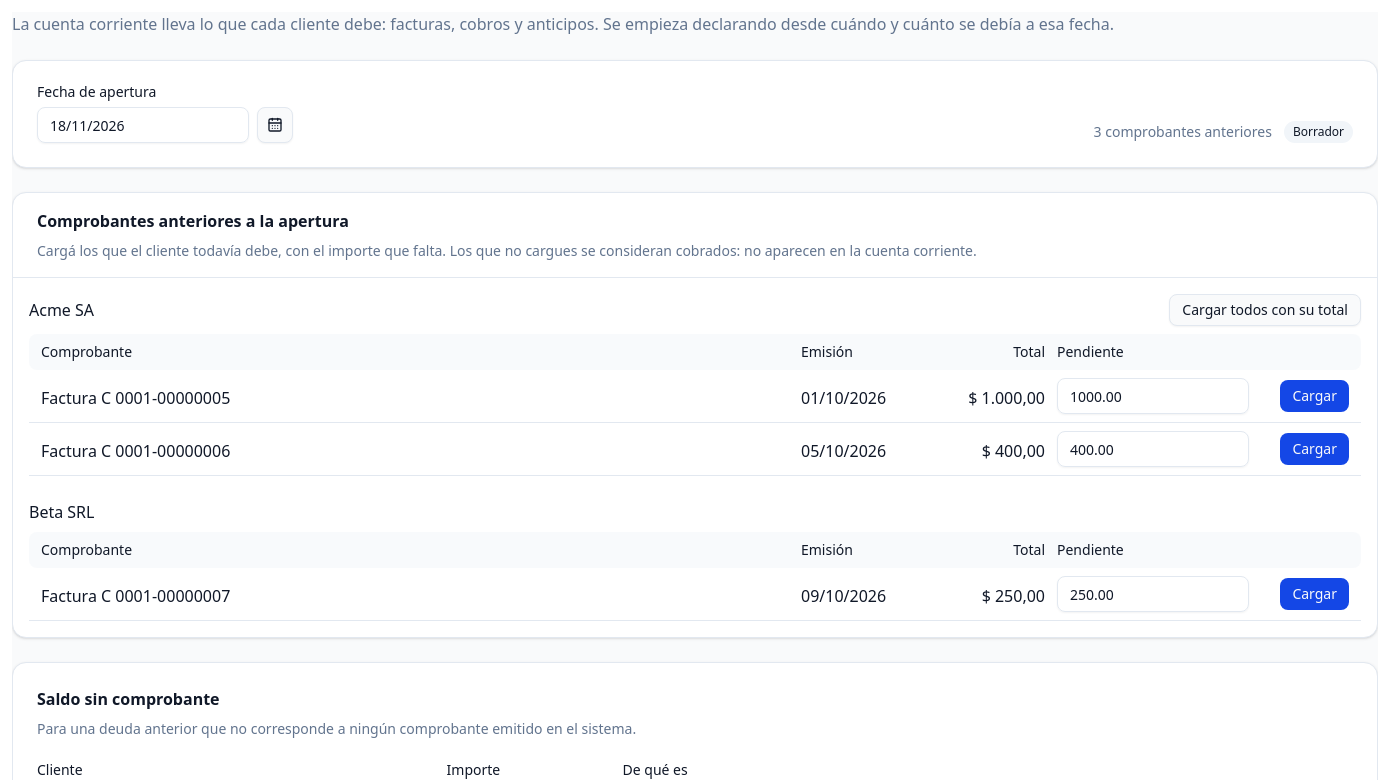
Test: Apertura de la cuenta corriente › borrador › carga un comprobante anterior por su total o por lo que falta, y vuelve a pedir la lista
Later steps or results of the test are not shown.
Expected: the heading "Beta SRL" is shown, top-left (29, 500), bottom-right (94, 524)
Step 1. Click the button with aria-label "Cargar Factura C 0001-00000007" → {"x": 1315, "y": 594}, box top-left (1280, 578), bottom-right (1349, 610)
Step 2. Replace the text in the field named "Pendiente de Factura C 0001-00000005" with "300,5" → {"x": 1153, "y": 396}, box top-left (1057, 378), bottom-right (1249, 414)
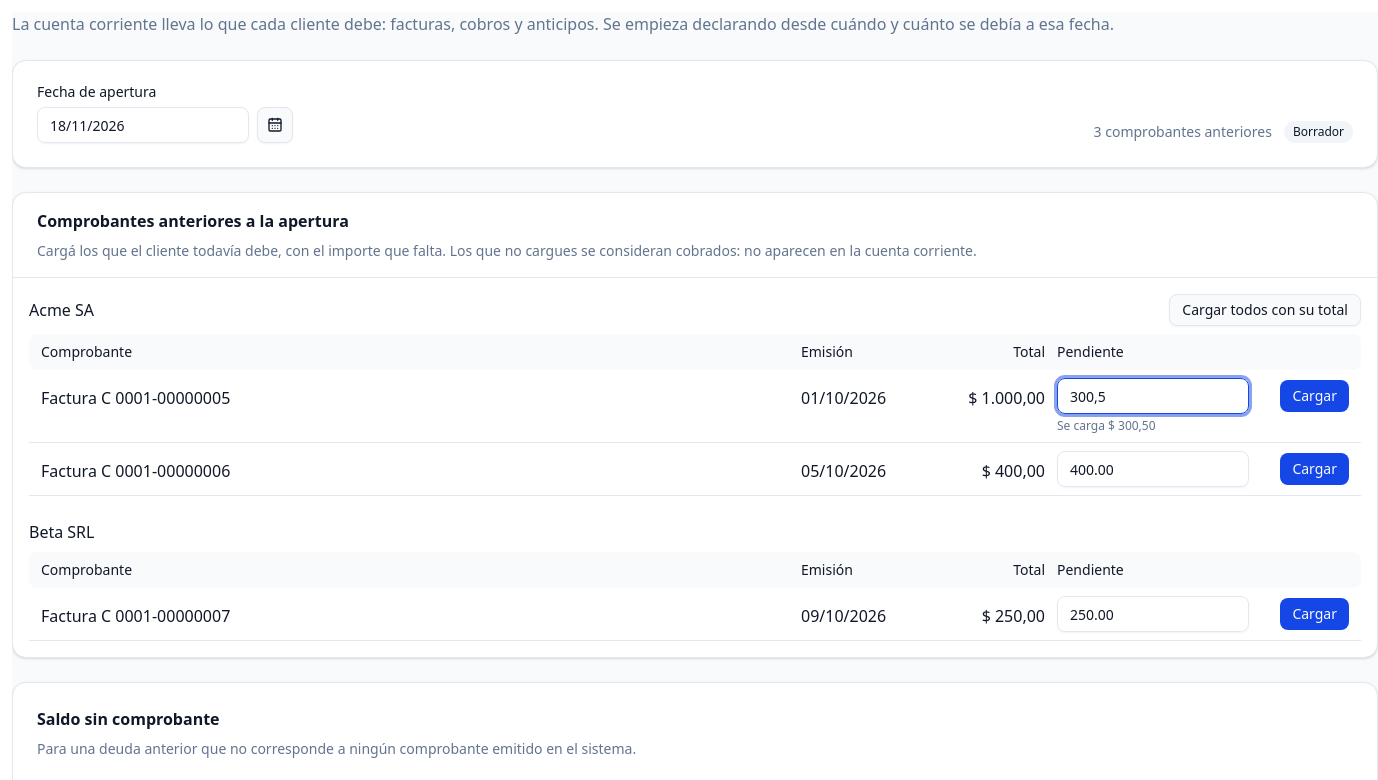
Now the text "Se carga $ 300,50" is shown, box top-left (1057, 417), bottom-right (1156, 434)
